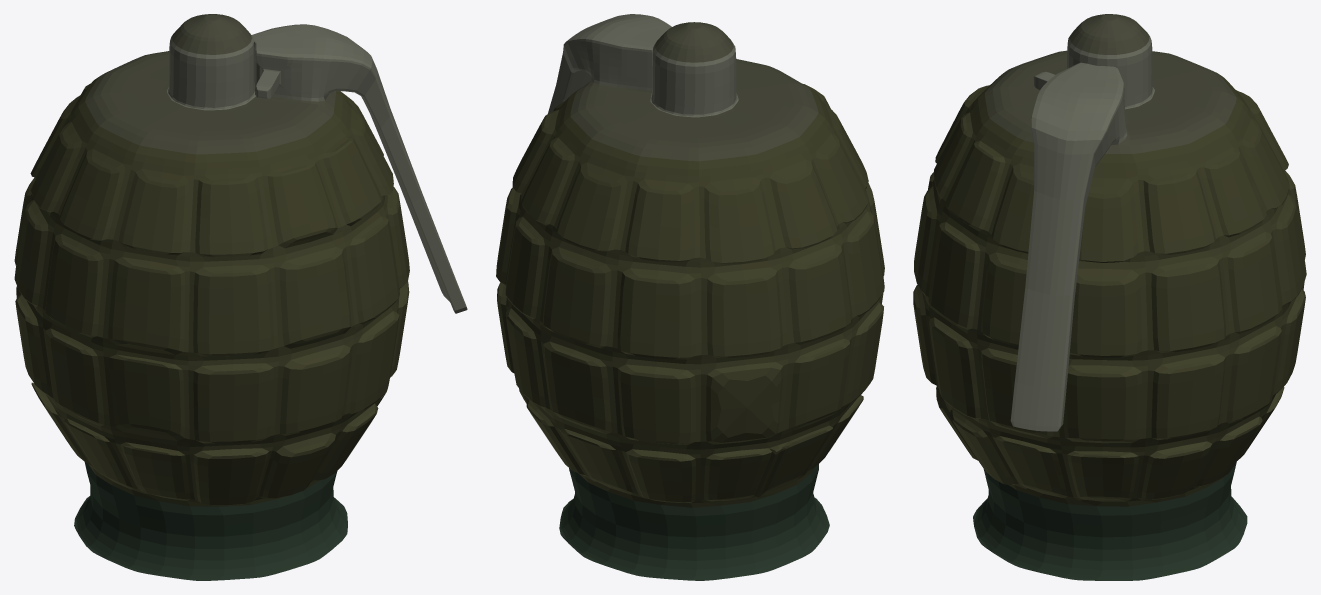
Rendered from Bomba.fbx.
3 renders of one model, left to right at view 1: azimuth 30°, elevation 25°; view 2: azimuth 150°, elevation 25°; view 3: azimuth 270°, elevation 25°, orthographic.
Parts seen in each view (by area): view 1: Bomba; view 2: Bomba; view 3: Bomba.
Boxes of the visible parts, x1,y1,x2,y2 form: Bomba: (14, 14, 467, 580); Bomba: (496, 14, 884, 580); Bomba: (913, 14, 1306, 580).
Bounding box in the file's own units: 16.53 × 20.83 × 14.51.
